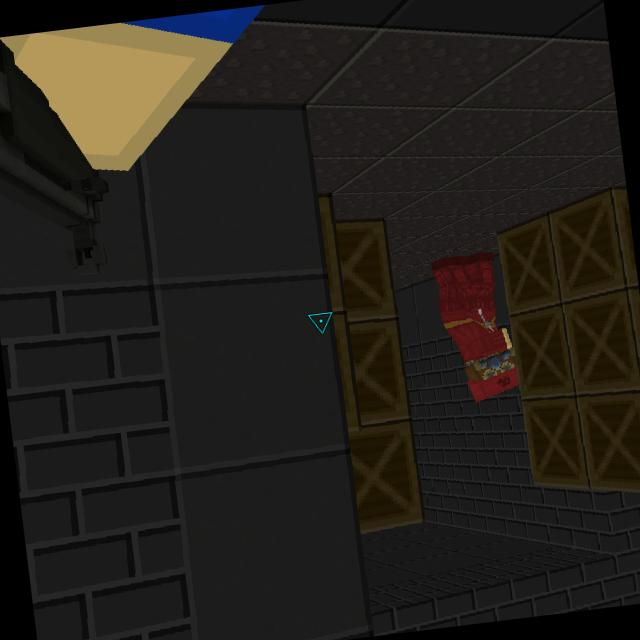enemy: (432, 250, 518, 408)
